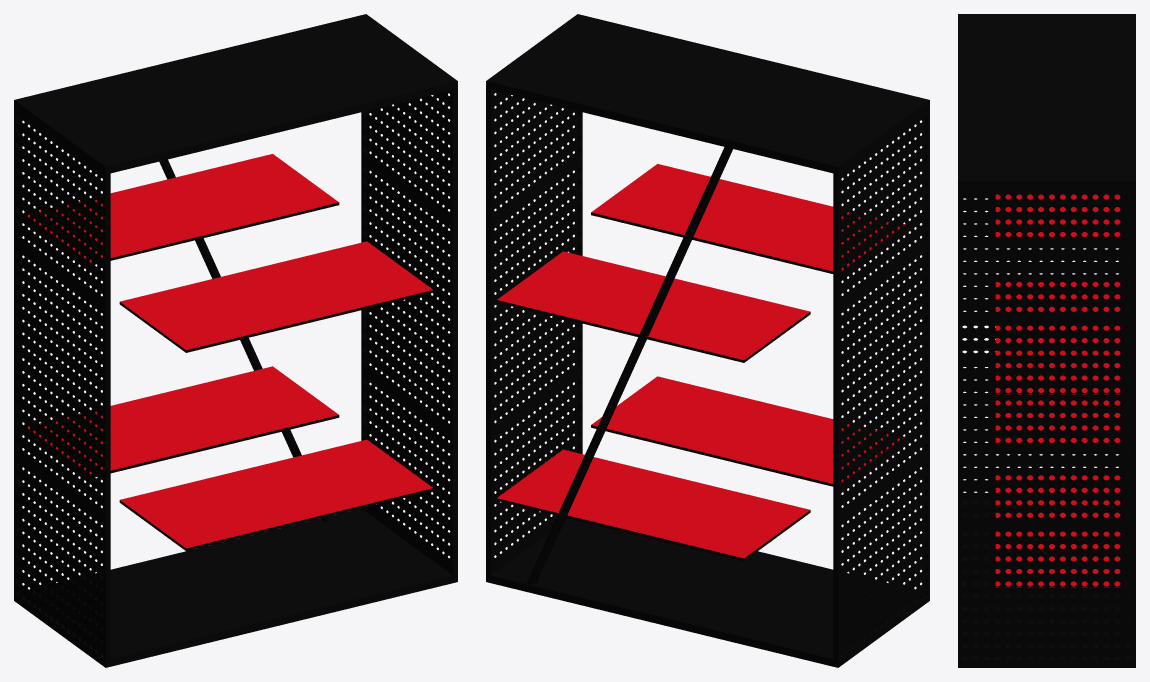
Rendered from Cabinet.fbx.
3 renders of one model, left to right at view 1: azimuth 30°, elevation 25°; view 2: azimuth 150°, elevation 25°; view 3: azimuth 270°, elevation 25°, orthographic. The views are drawn at different scales.
Parts seen in each view (by area): view 1: Cabinet; view 2: Cabinet; view 3: Cabinet.
Part boxes in pixels (box(x1,y1,x2,y2)): Cabinet: box(14, 14, 457, 667); Cabinet: box(486, 14, 929, 667); Cabinet: box(958, 14, 1135, 667).
Bounding box in the file's own units: 355 × 483 × 160.
